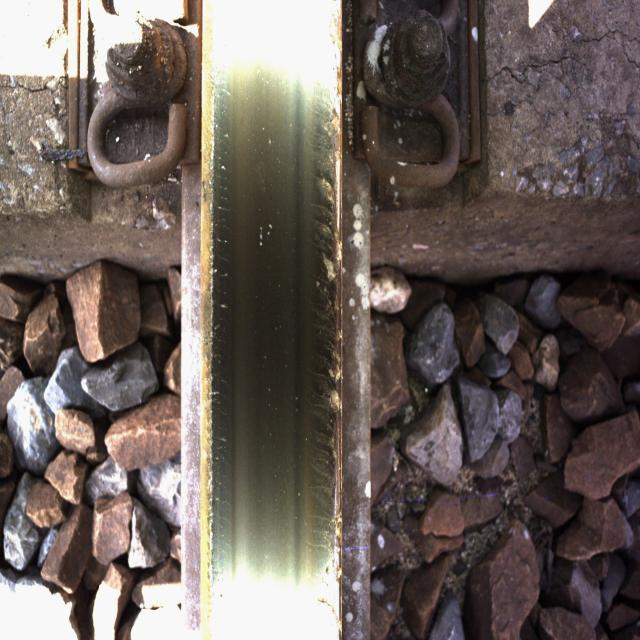crack: (292, 79, 350, 579)
